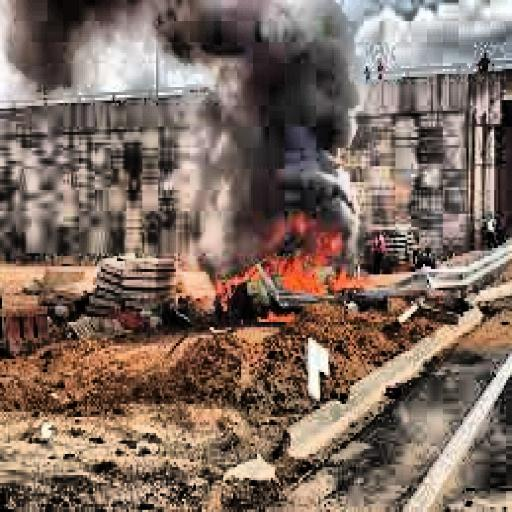fire: (219, 216, 368, 317)
